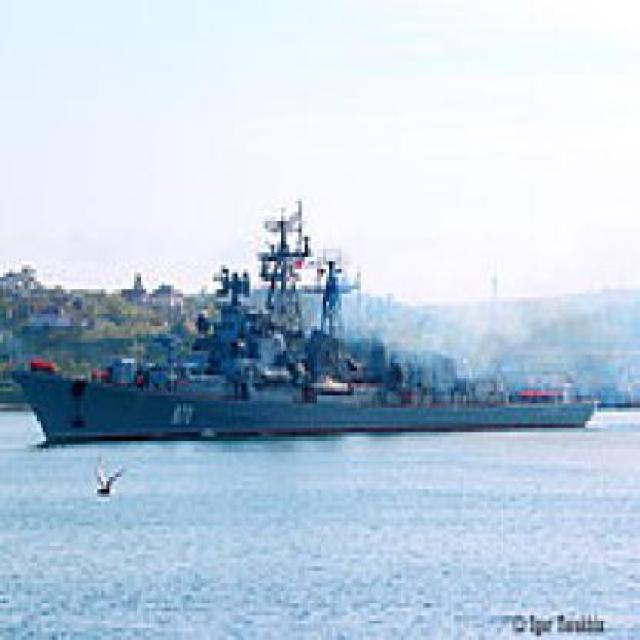warship2: (17, 197, 617, 474)
